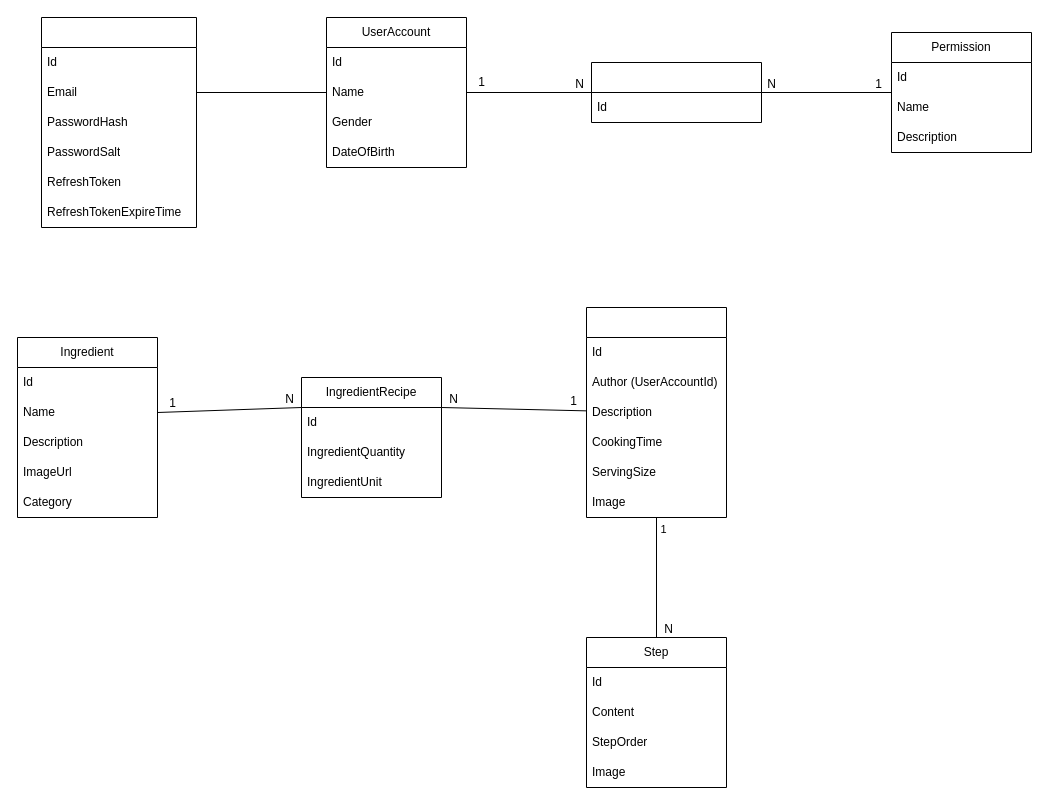
Some shapes in this 1049 by 805 pixel diagram are drawn without their labels. Each missing label, with the box of its shape:
Recipe: (586, 306, 726, 518)
UserAccountPermission: (590, 62, 762, 122)
UserLogin: (40, 16, 196, 228)
